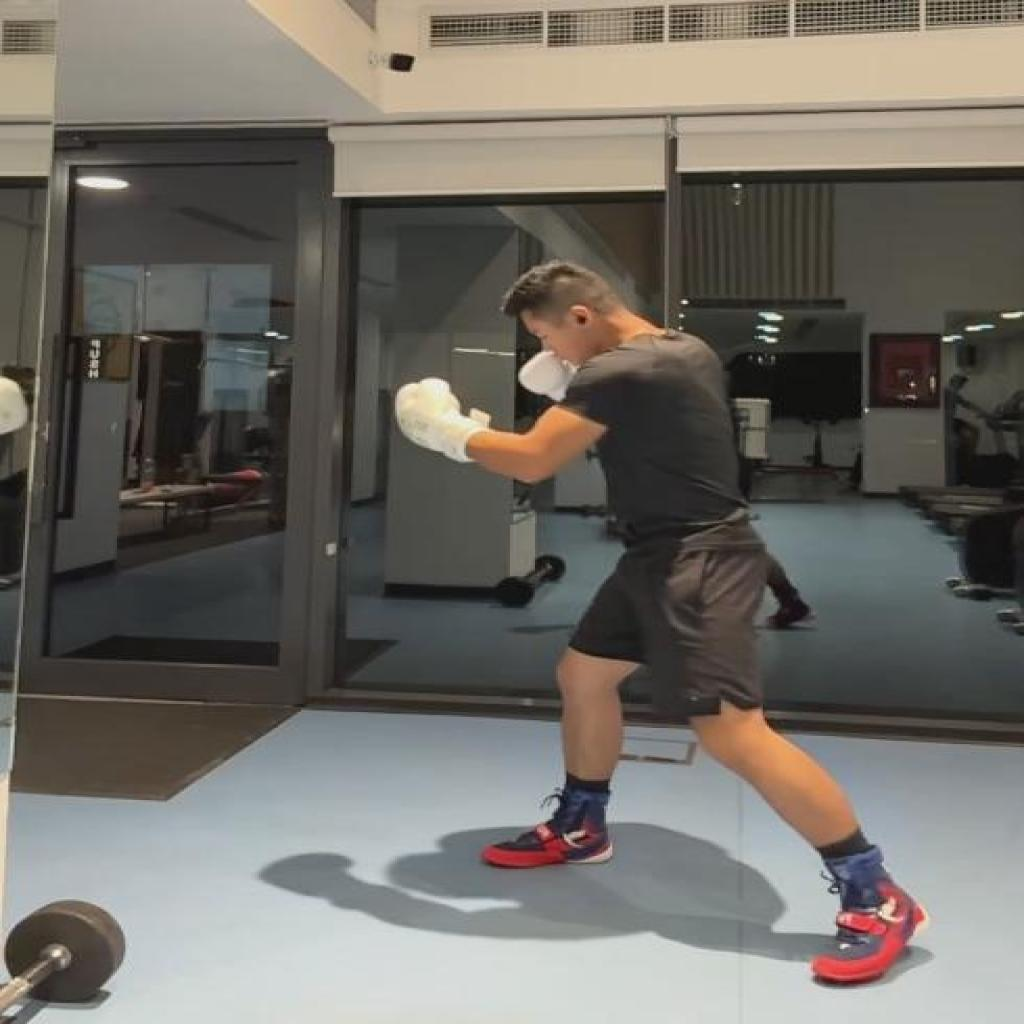uppercut: (395, 262, 930, 988)
